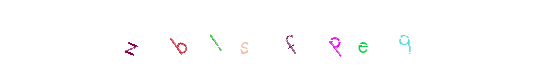9: (321, 0, 401, 80)
B: (139, 0, 219, 80)
E: (295, 0, 375, 80)
F: (240, 0, 320, 80)
L: (183, 0, 263, 80)
P: (275, 0, 355, 80)
S: (222, 0, 302, 80)
Z: (130, 0, 210, 80)
